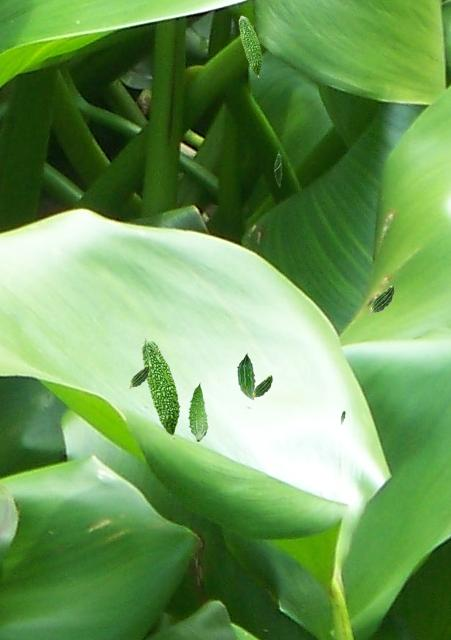ampalaya: (141, 337, 181, 439), (238, 15, 263, 78), (187, 382, 209, 442), (236, 352, 256, 400), (368, 285, 394, 315), (128, 364, 150, 389), (251, 374, 273, 399), (273, 149, 283, 188), (340, 409, 345, 424)
